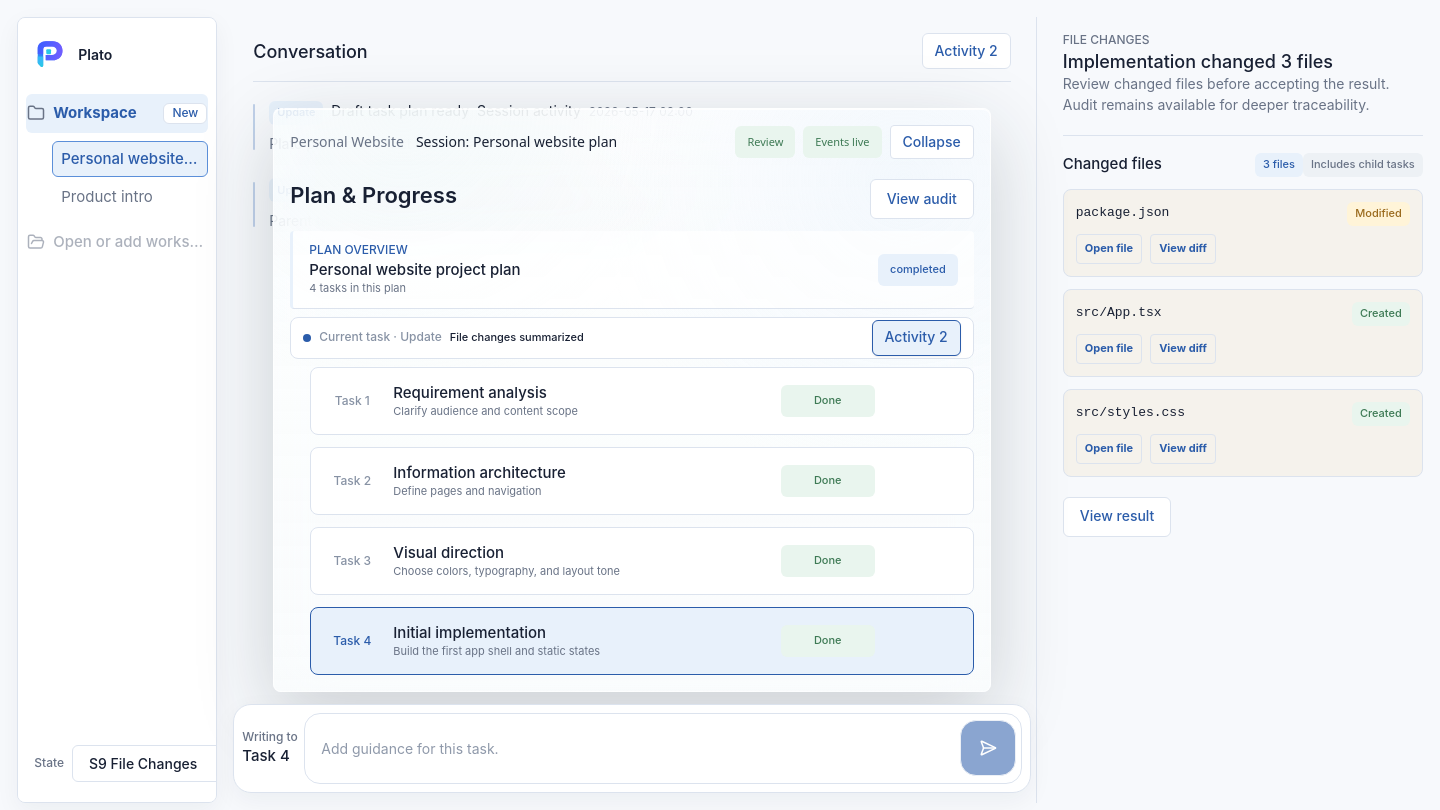
Scenario: App › scopes result and file-change detail to the selected TaskNode
Expected: the text "Changed files" is shown, top-left (1063, 154), bottom-right (1162, 174)
Expected: the text "package.json" is shown, top-left (1076, 204), bottom-right (1169, 223)
Click the button "Visual direction".
click(352, 560)  # box top-left (323, 540), bottom-right (875, 582)
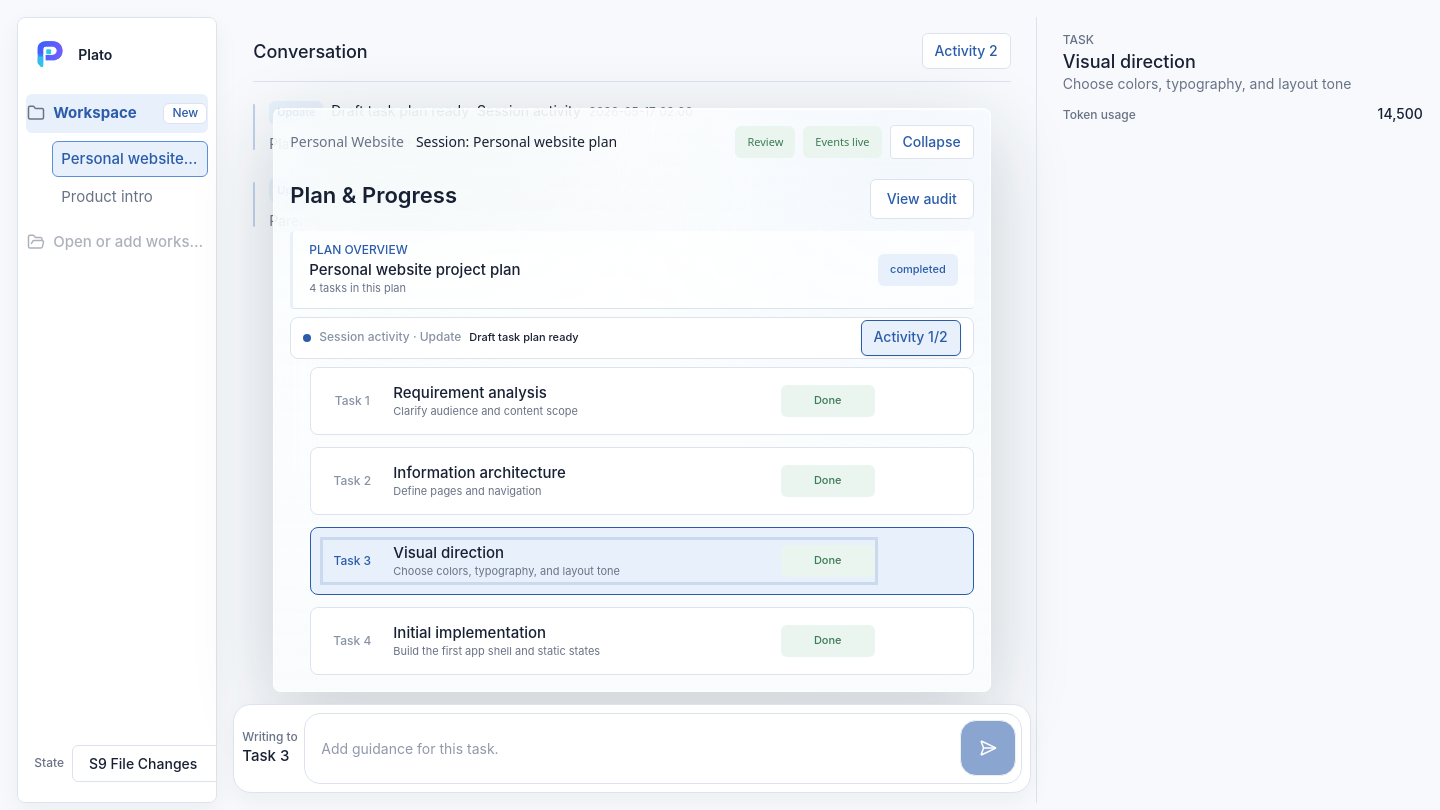
Expected: the element named "Details" is shown, top-left (1063, 32), bottom-right (1423, 122)
Expected: the heading "Visual direction" is shown, top-left (1063, 51), bottom-right (1196, 72)
Expected: the text "package.json" is gone
Click the button "Initial implementation".
click(352, 640)  # box top-left (323, 620), bottom-right (875, 662)
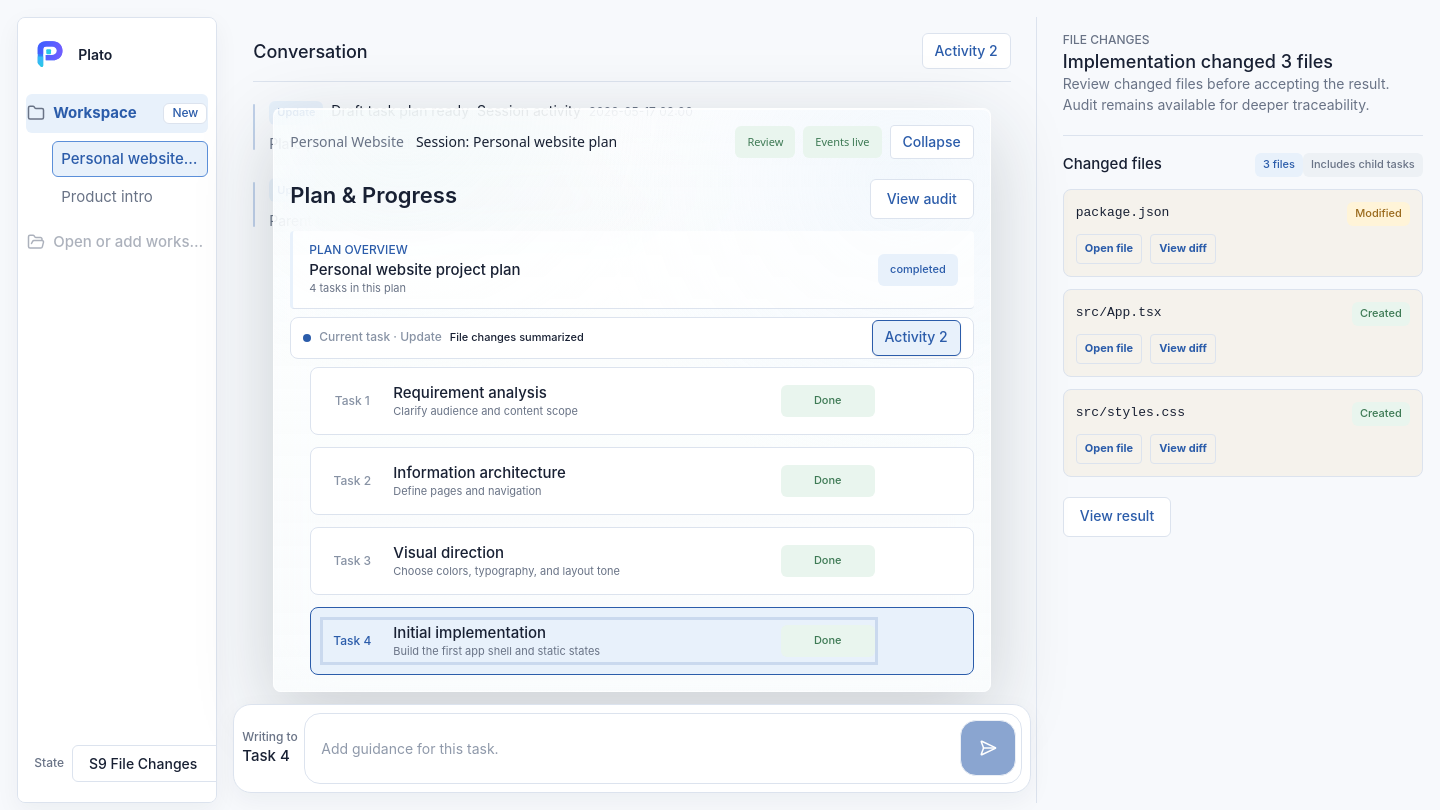
Expected: the text "Changed files" is shown, top-left (1063, 154), bottom-right (1162, 174)
Expected: the text "package.json" is shown, top-left (1076, 204), bottom-right (1169, 223)
